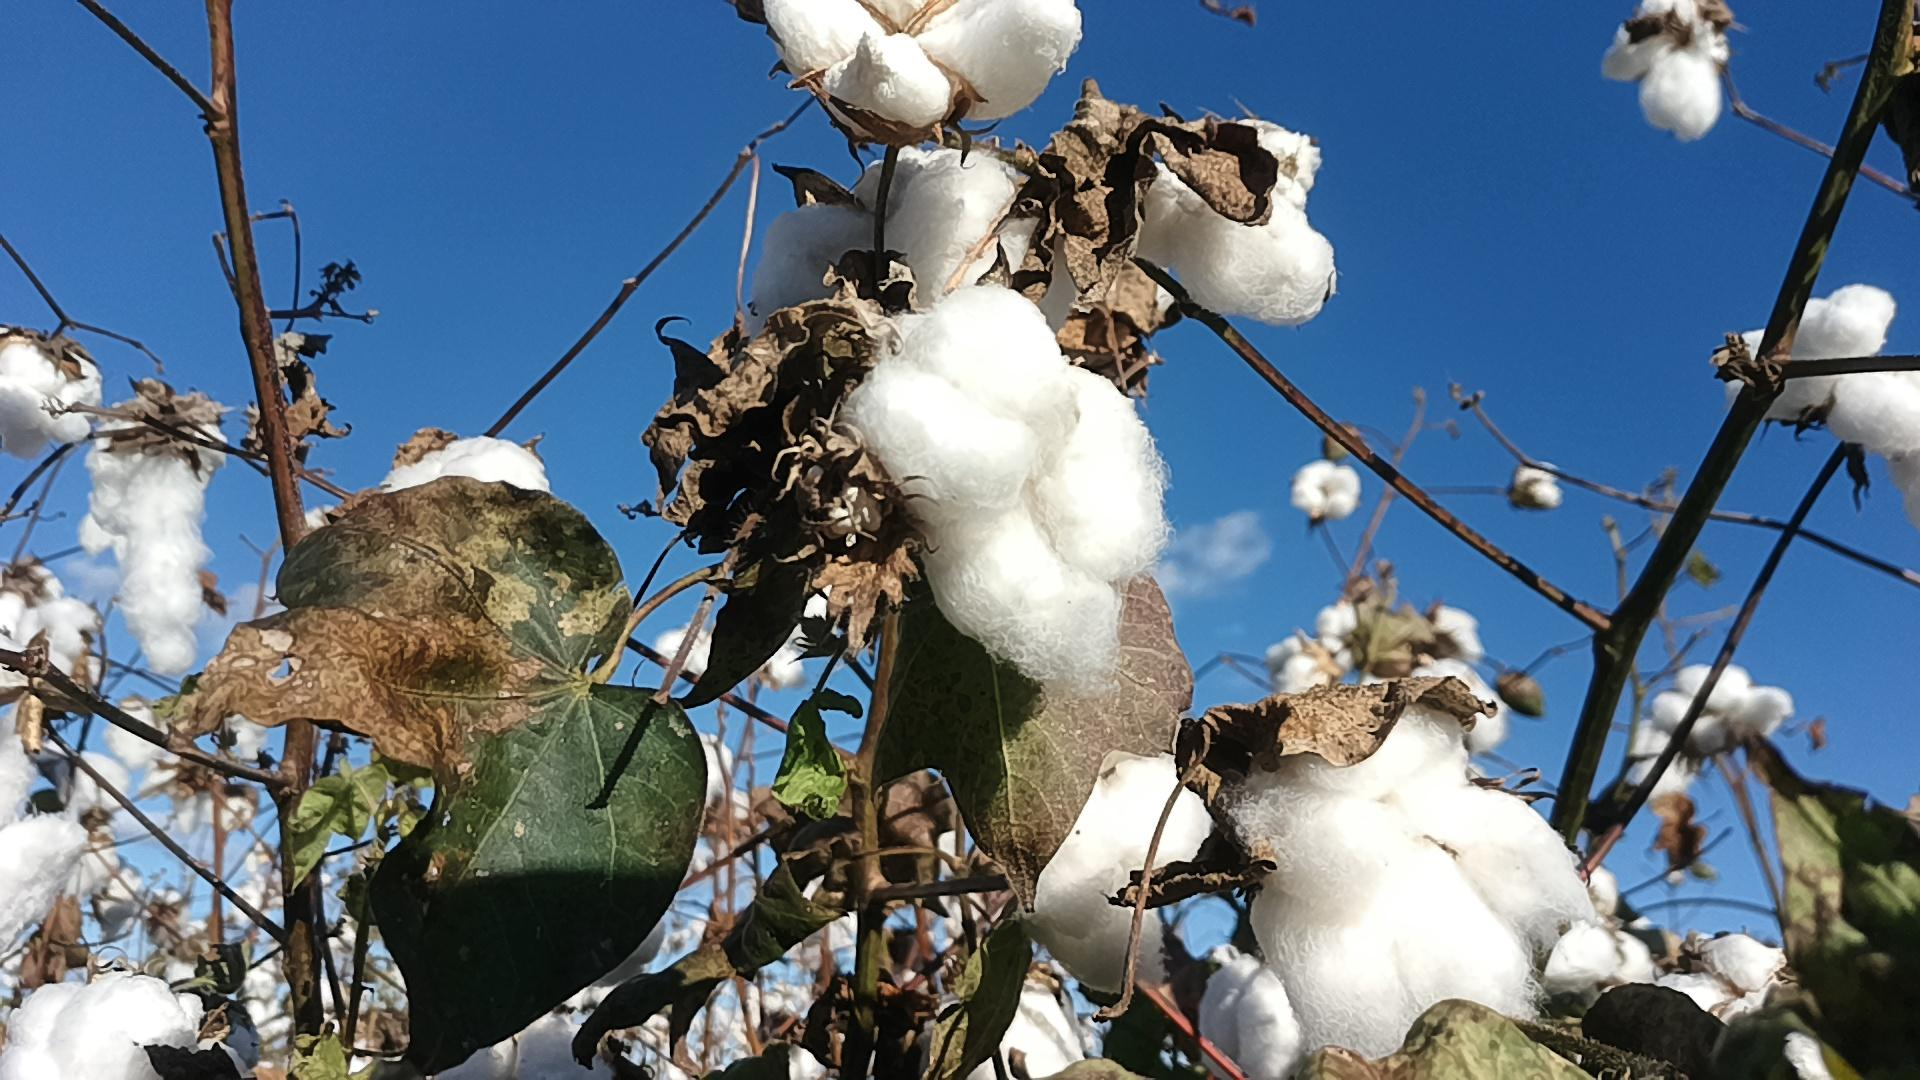cotton_ready: (844, 286, 1179, 705), (1237, 699, 1606, 1064), (749, 145, 1081, 343), (1026, 746, 1218, 996), (1113, 123, 1338, 326), (764, 0, 1081, 132), (84, 396, 228, 676), (1712, 284, 1920, 451), (1659, 934, 1830, 1080), (0, 972, 207, 1080), (378, 438, 551, 559), (1605, 0, 1731, 145), (0, 811, 94, 968), (961, 964, 1088, 1080), (1197, 940, 1299, 1080), (439, 1005, 625, 1080), (0, 331, 105, 456)
